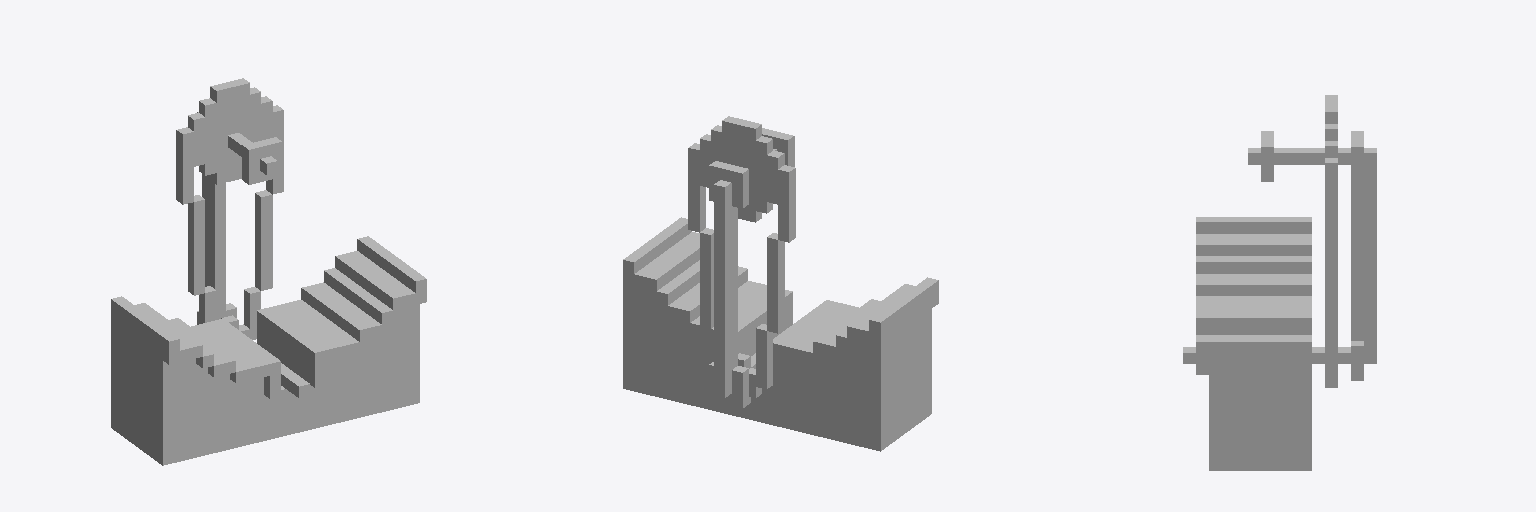
The model's file is NOT station.obj.
3 renders of one model, left to right at view 1: azimuth 30°, elevation 25°; view 2: azimuth 150°, elevation 25°; view 3: azimuth 270°, elevation 25°, orthographic.
Size of the model in its own units: 23 by 26 by 15.